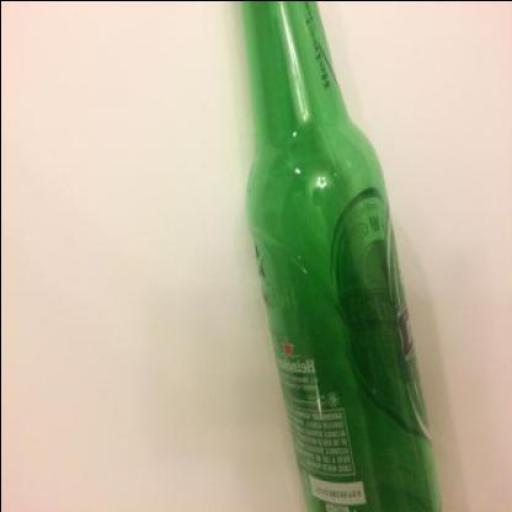glass: (244, 1, 442, 511)
